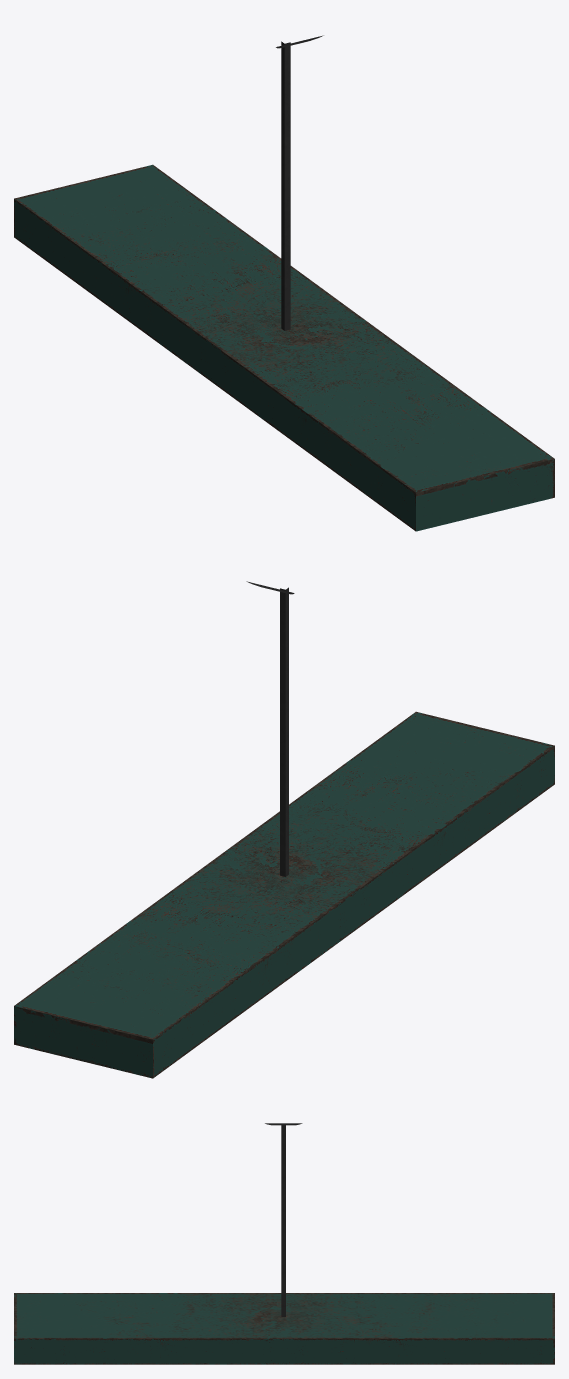
Rendered from fluorescent lamp.fbx.
3 views of the same model, one above another, from view 1: azimuth 30°, elevation 25°; view 2: azimuth 150°, elevation 25°; view 3: azimuth 270°, elevation 25° (orthographic). The views are drawn at different scales.
Parts seen in each view (by area): view 1: fluorescent lamp; view 2: fluorescent lamp; view 3: fluorescent lamp.
Part boxes in pixels (left/top/right/bottom): fluorescent lamp: left=14, top=35, right=554, bottom=531; fluorescent lamp: left=14, top=581, right=554, bottom=1078; fluorescent lamp: left=14, top=1123, right=554, bottom=1364.
Size of the model in its own units: 0.3002 by 0.6956 by 1.5.
